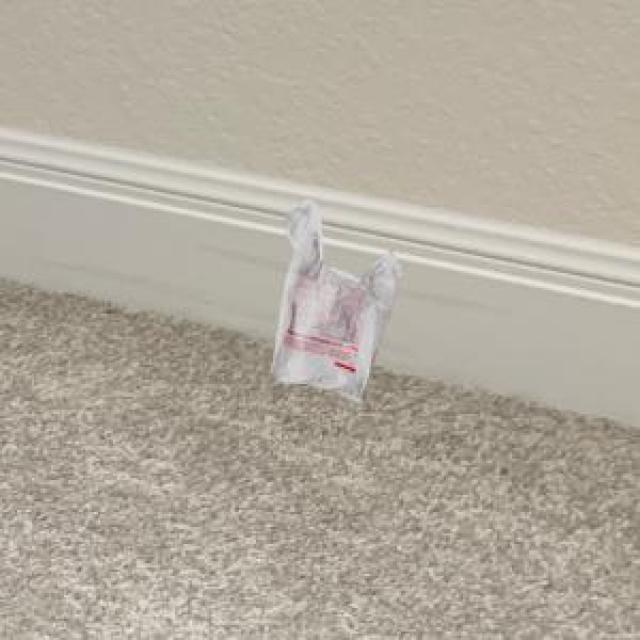waste: (274, 206, 396, 402)
